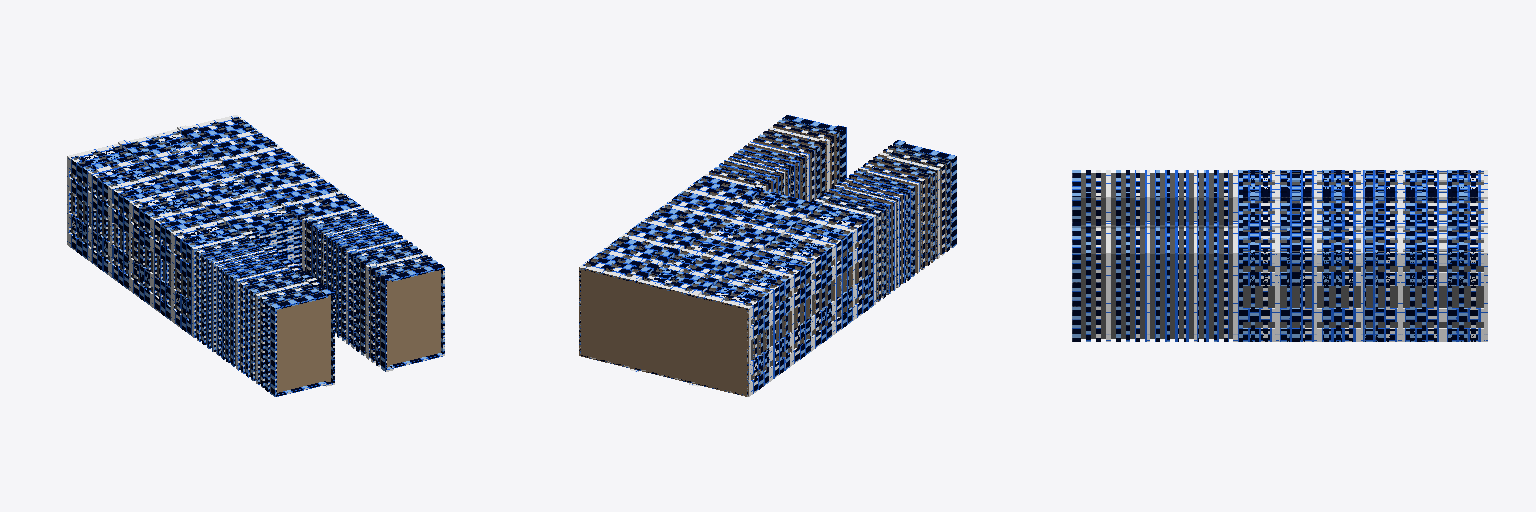
3 views of the same model, side by side, from view 1: azimuth 30°, elevation 25°; view 2: azimuth 150°, elevation 25°; view 3: azimuth 270°, elevation 25° (orthographic).
Parts seen in each view (by area): view 1: Wall_01, Wall_02, Wall_03, Slab_01, Glass_01, Glass_02; view 2: Wall_01, Slab_01, Wall_02, Wall_03, Glass_01, Glass_02; view 3: Wall_01, Wall_02, Glass_02, Glass_01.
Part boxes in pixels (left/top/right/bottom): Wall_01: left=67, top=115, right=443, bottom=396; Wall_02: left=67, top=116, right=357, bottom=333; Wall_03: left=69, top=117, right=444, bottom=396; Slab_01: left=277, top=270, right=440, bottom=392; Glass_01: left=71, top=119, right=354, bottom=318; Glass_02: left=196, top=210, right=435, bottom=382; Wall_01: left=580, top=115, right=956, bottom=396; Slab_01: left=579, top=122, right=946, bottom=396; Wall_02: left=580, top=177, right=870, bottom=394; Wall_03: left=579, top=118, right=951, bottom=396; Glass_01: left=586, top=180, right=869, bottom=379; Glass_02: left=710, top=120, right=950, bottom=299; Wall_01: left=1072, top=170, right=1487, bottom=341; Wall_02: left=1243, top=170, right=1487, bottom=341; Glass_02: left=1081, top=173, right=1232, bottom=338; Glass_01: left=1243, top=173, right=1483, bottom=327.
Size of the model in its own units: 1920 by 998 by 4080.
Materials: 3 (1 with a texture image).